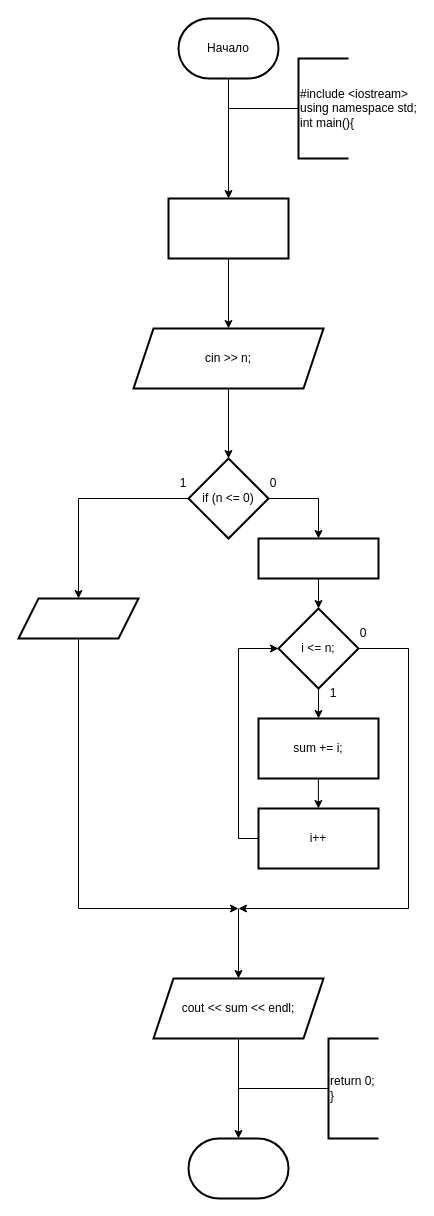
Some shapes in this 434 by 1216 pixel diagram are drawn without their labels. Each missing label, with the box of its shape:
cout << endl;: (17, 597, 139, 639)
int i = 1;: (257, 537, 379, 579)
int n; int sum = 0;: (167, 197, 289, 259)
Конец: (187, 1137, 289, 1199)
